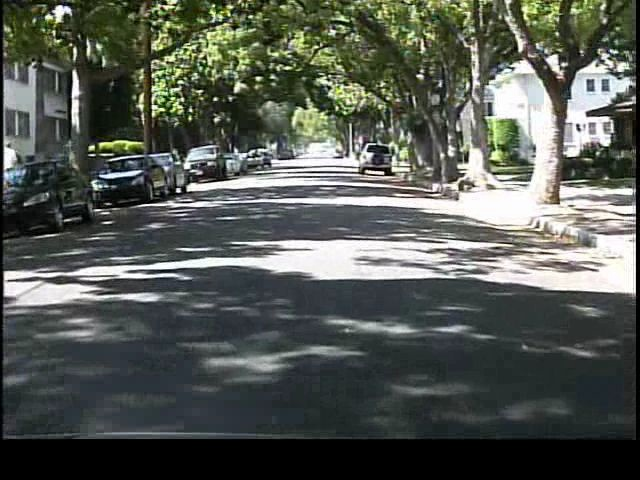person: (2, 136, 26, 202)
